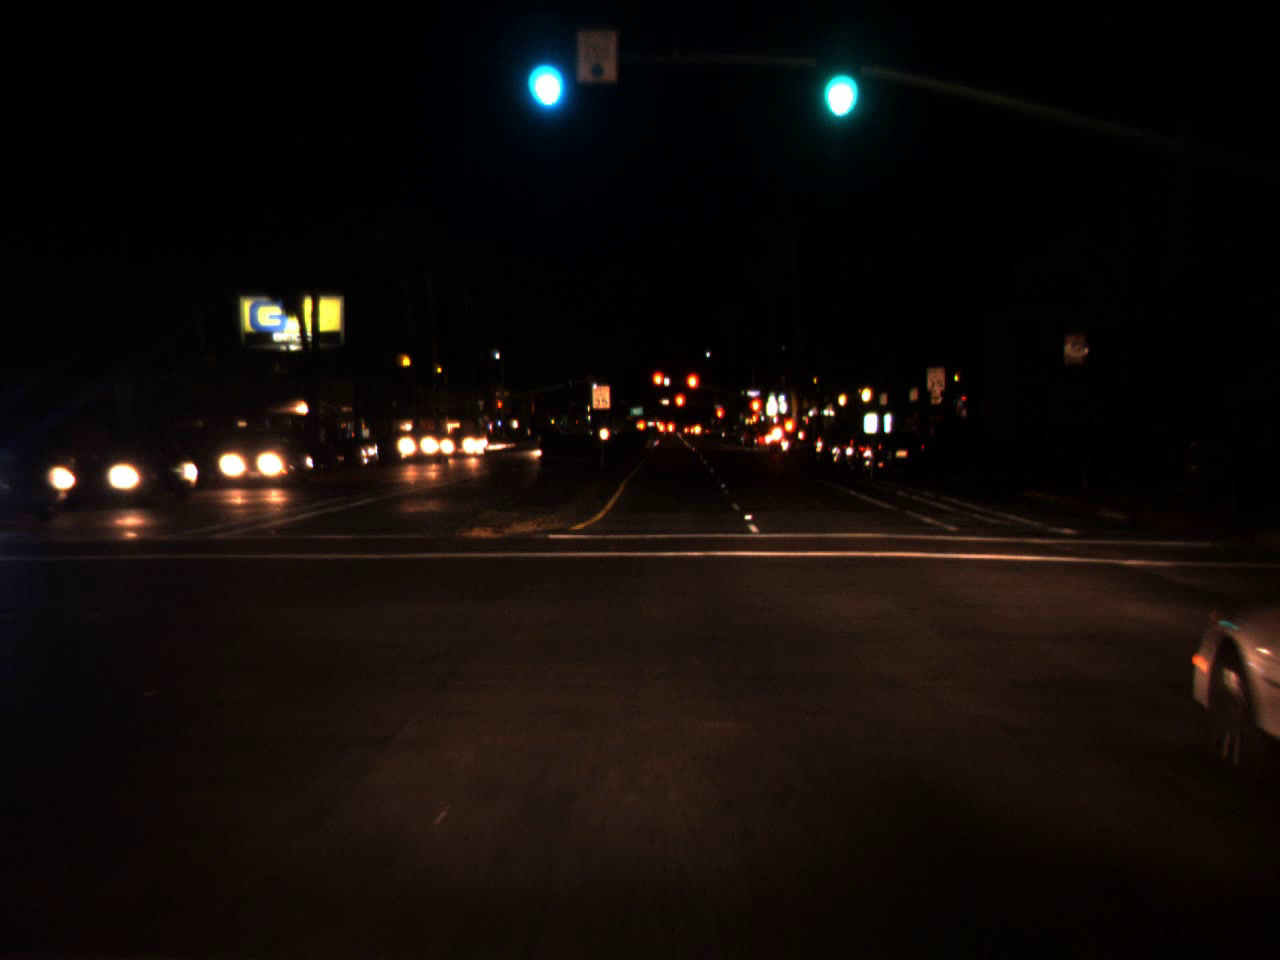go: (815, 40, 860, 127), (524, 31, 567, 118)
stop: (684, 370, 700, 407), (651, 370, 666, 399), (674, 392, 686, 421), (715, 406, 724, 427), (497, 400, 503, 416), (751, 400, 758, 413)
